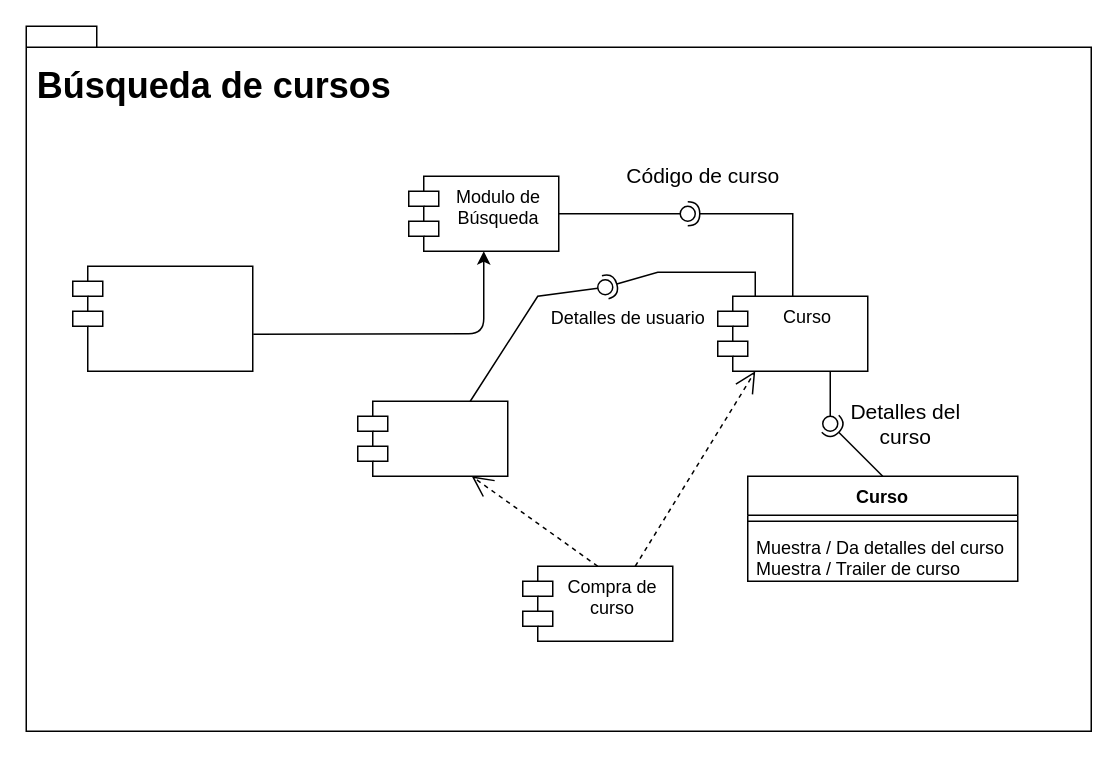
Image size: 1118x758. Some labels were removed from this diagram. The centre of each missing label's shape, as x and y in pixels:
Interfaz de página de inicio: point (162, 318)
Usuario: point (432, 438)
